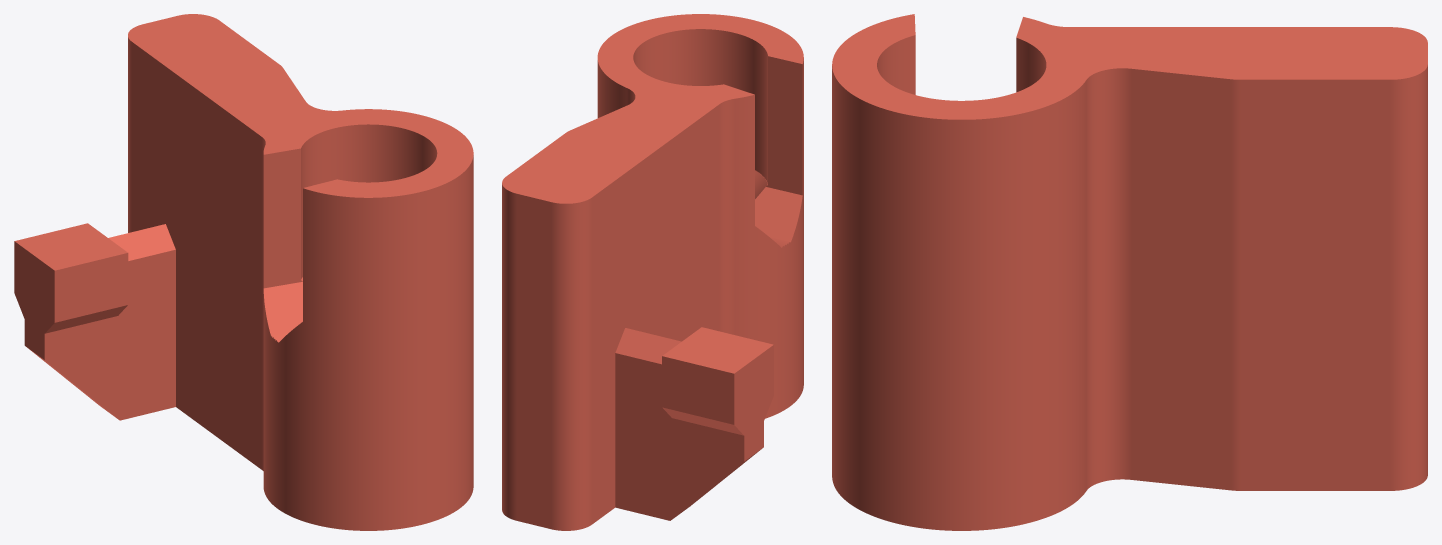
File: lever.glb
3 views of the same model, side by side, from view 1: azimuth 30°, elevation 25°; view 2: azimuth 150°, elevation 25°; view 3: azimuth 270°, elevation 25° (orthographic). The views are drawn at different scales.
Visible parts, largest first — view 1: =>[0:1:1:3]; view 2: =>[0:1:1:3]; view 3: =>[0:1:1:3].
Boxes of the visible parts, bbox=[...] form: =>[0:1:1:3]: bbox=[14, 14, 473, 530]; =>[0:1:1:3]: bbox=[502, 14, 803, 530]; =>[0:1:1:3]: bbox=[832, 14, 1427, 530].
Bounding box in the file's own units: 0.0163 × 0.0182 × 0.0239.
